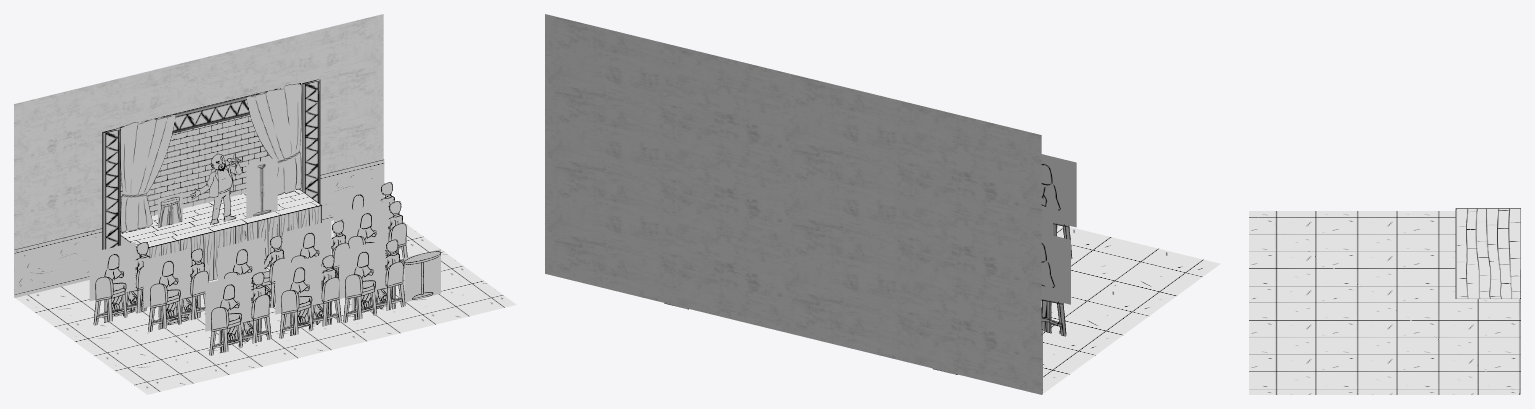
The model's file is Escenario_v1 (1).fbx.
The picture shows the model from 3 angles, left to right: view 1: azimuth 30°, elevation 25°; view 2: azimuth 150°, elevation 25°; view 3: azimuth 270°, elevation 25°; orthographic projection. The views are drawn at different scales.
Parts seen in each view (by area): view 1: Plane.001, Plane, Plane.007, Plane.008, Plane.009, Plane.023, Plane.003, Plane.002, Plane.005, Plane.006, Plane.024, Plane.053 (+27 smaller); view 2: Plane.001, Plane, Plane.053, Plane.065; view 3: Plane, Plane.003.
Part boxes in pixels (x1=…): Plane.001: x1=14, y1=14, x2=383, y2=297; Plane: x1=15, y1=220, x2=516, y2=394; Plane.007: x1=120, y1=114, x2=271, y2=216; Plane.008: x1=120, y1=114, x2=175, y2=232; Plane.009: x1=246, y1=83, x2=301, y2=195; Plane.023: x1=14, y1=228, x2=102, y2=297; Plane.003: x1=120, y1=189, x2=321, y2=247; Plane.002: x1=139, y1=205, x2=321, y2=280; Plane.005: x1=102, y1=127, x2=120, y2=249; Plane.006: x1=302, y1=79, x2=320, y2=203; Plane.024: x1=300, y1=159, x2=384, y2=222; Plane.053: x1=205, y1=272, x2=251, y2=331; Plane.001: x1=545, y1=14, x2=1041, y2=394; Plane: x1=1041, y1=225, x2=1220, y2=394; Plane.053: x1=1041, y1=154, x2=1076, y2=227; Plane.065: x1=1041, y1=233, x2=1070, y2=304; Plane: x1=1249, y1=211, x2=1520, y2=394; Plane.003: x1=1455, y1=208, x2=1520, y2=298.
Bounding box in the file's own units: 800 × 427 × 500.
Materials: 18 (18 with a texture image).
